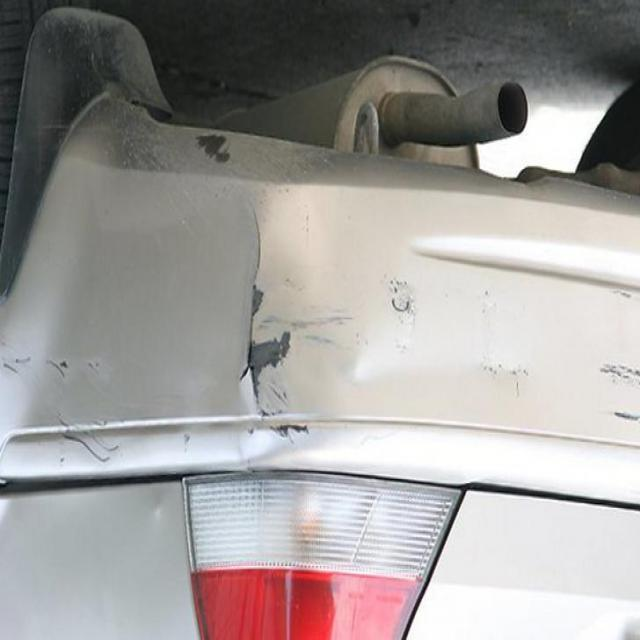scratch: (220, 199, 318, 462), (188, 121, 236, 181)
